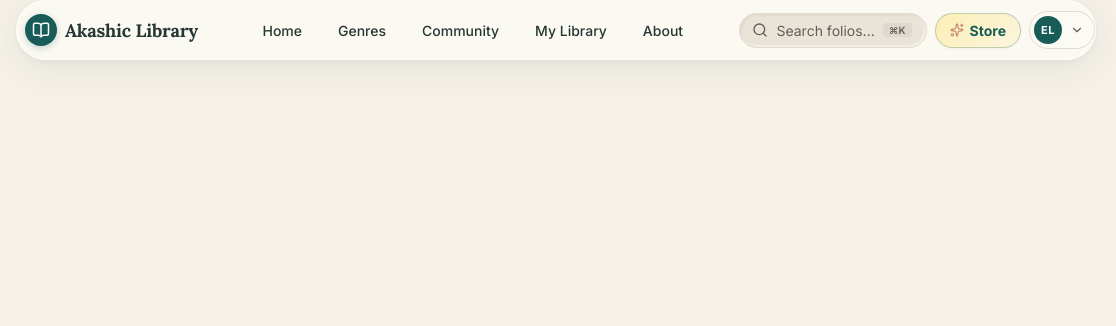
Navbar Component › closes profile dropdown on Escape key
Click the button with aria-label "Account menu for Elena Solanas" at (1062, 30), box [1029, 11, 1095, 49]
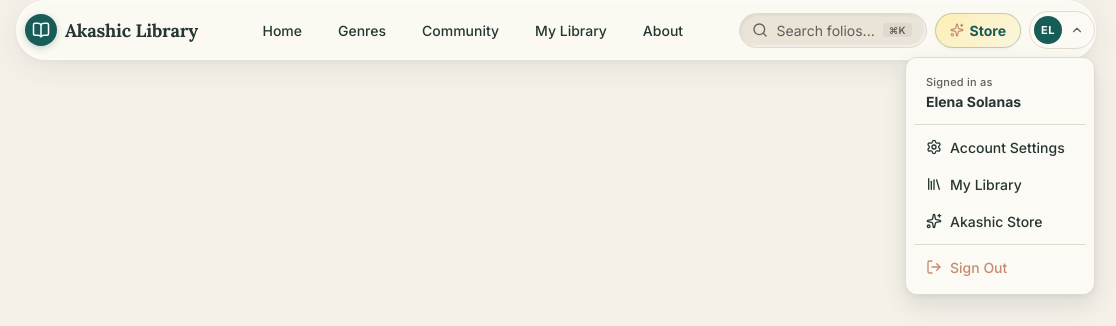
Now the menu named "User account menu" is shown, box [905, 57, 1095, 294]
Press Escape
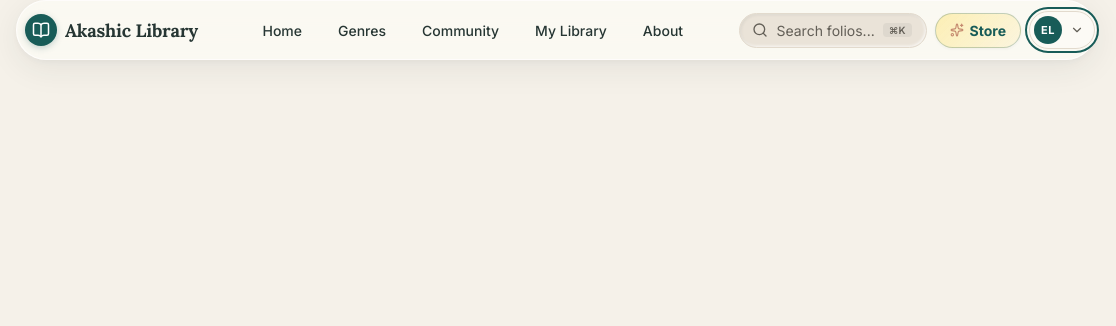
Now the menu "User account menu" is gone
